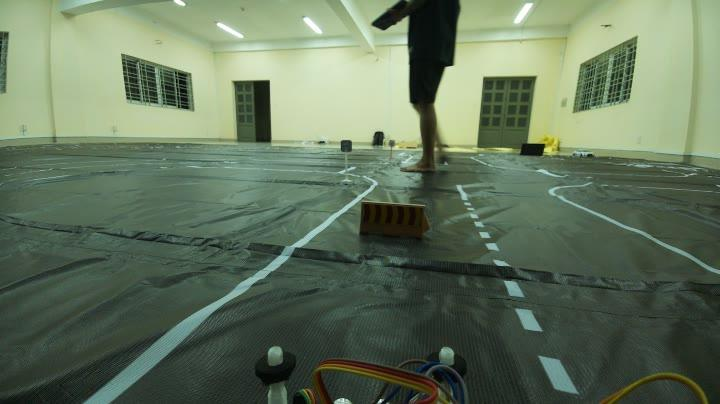roadblock: (343, 190, 443, 249)
